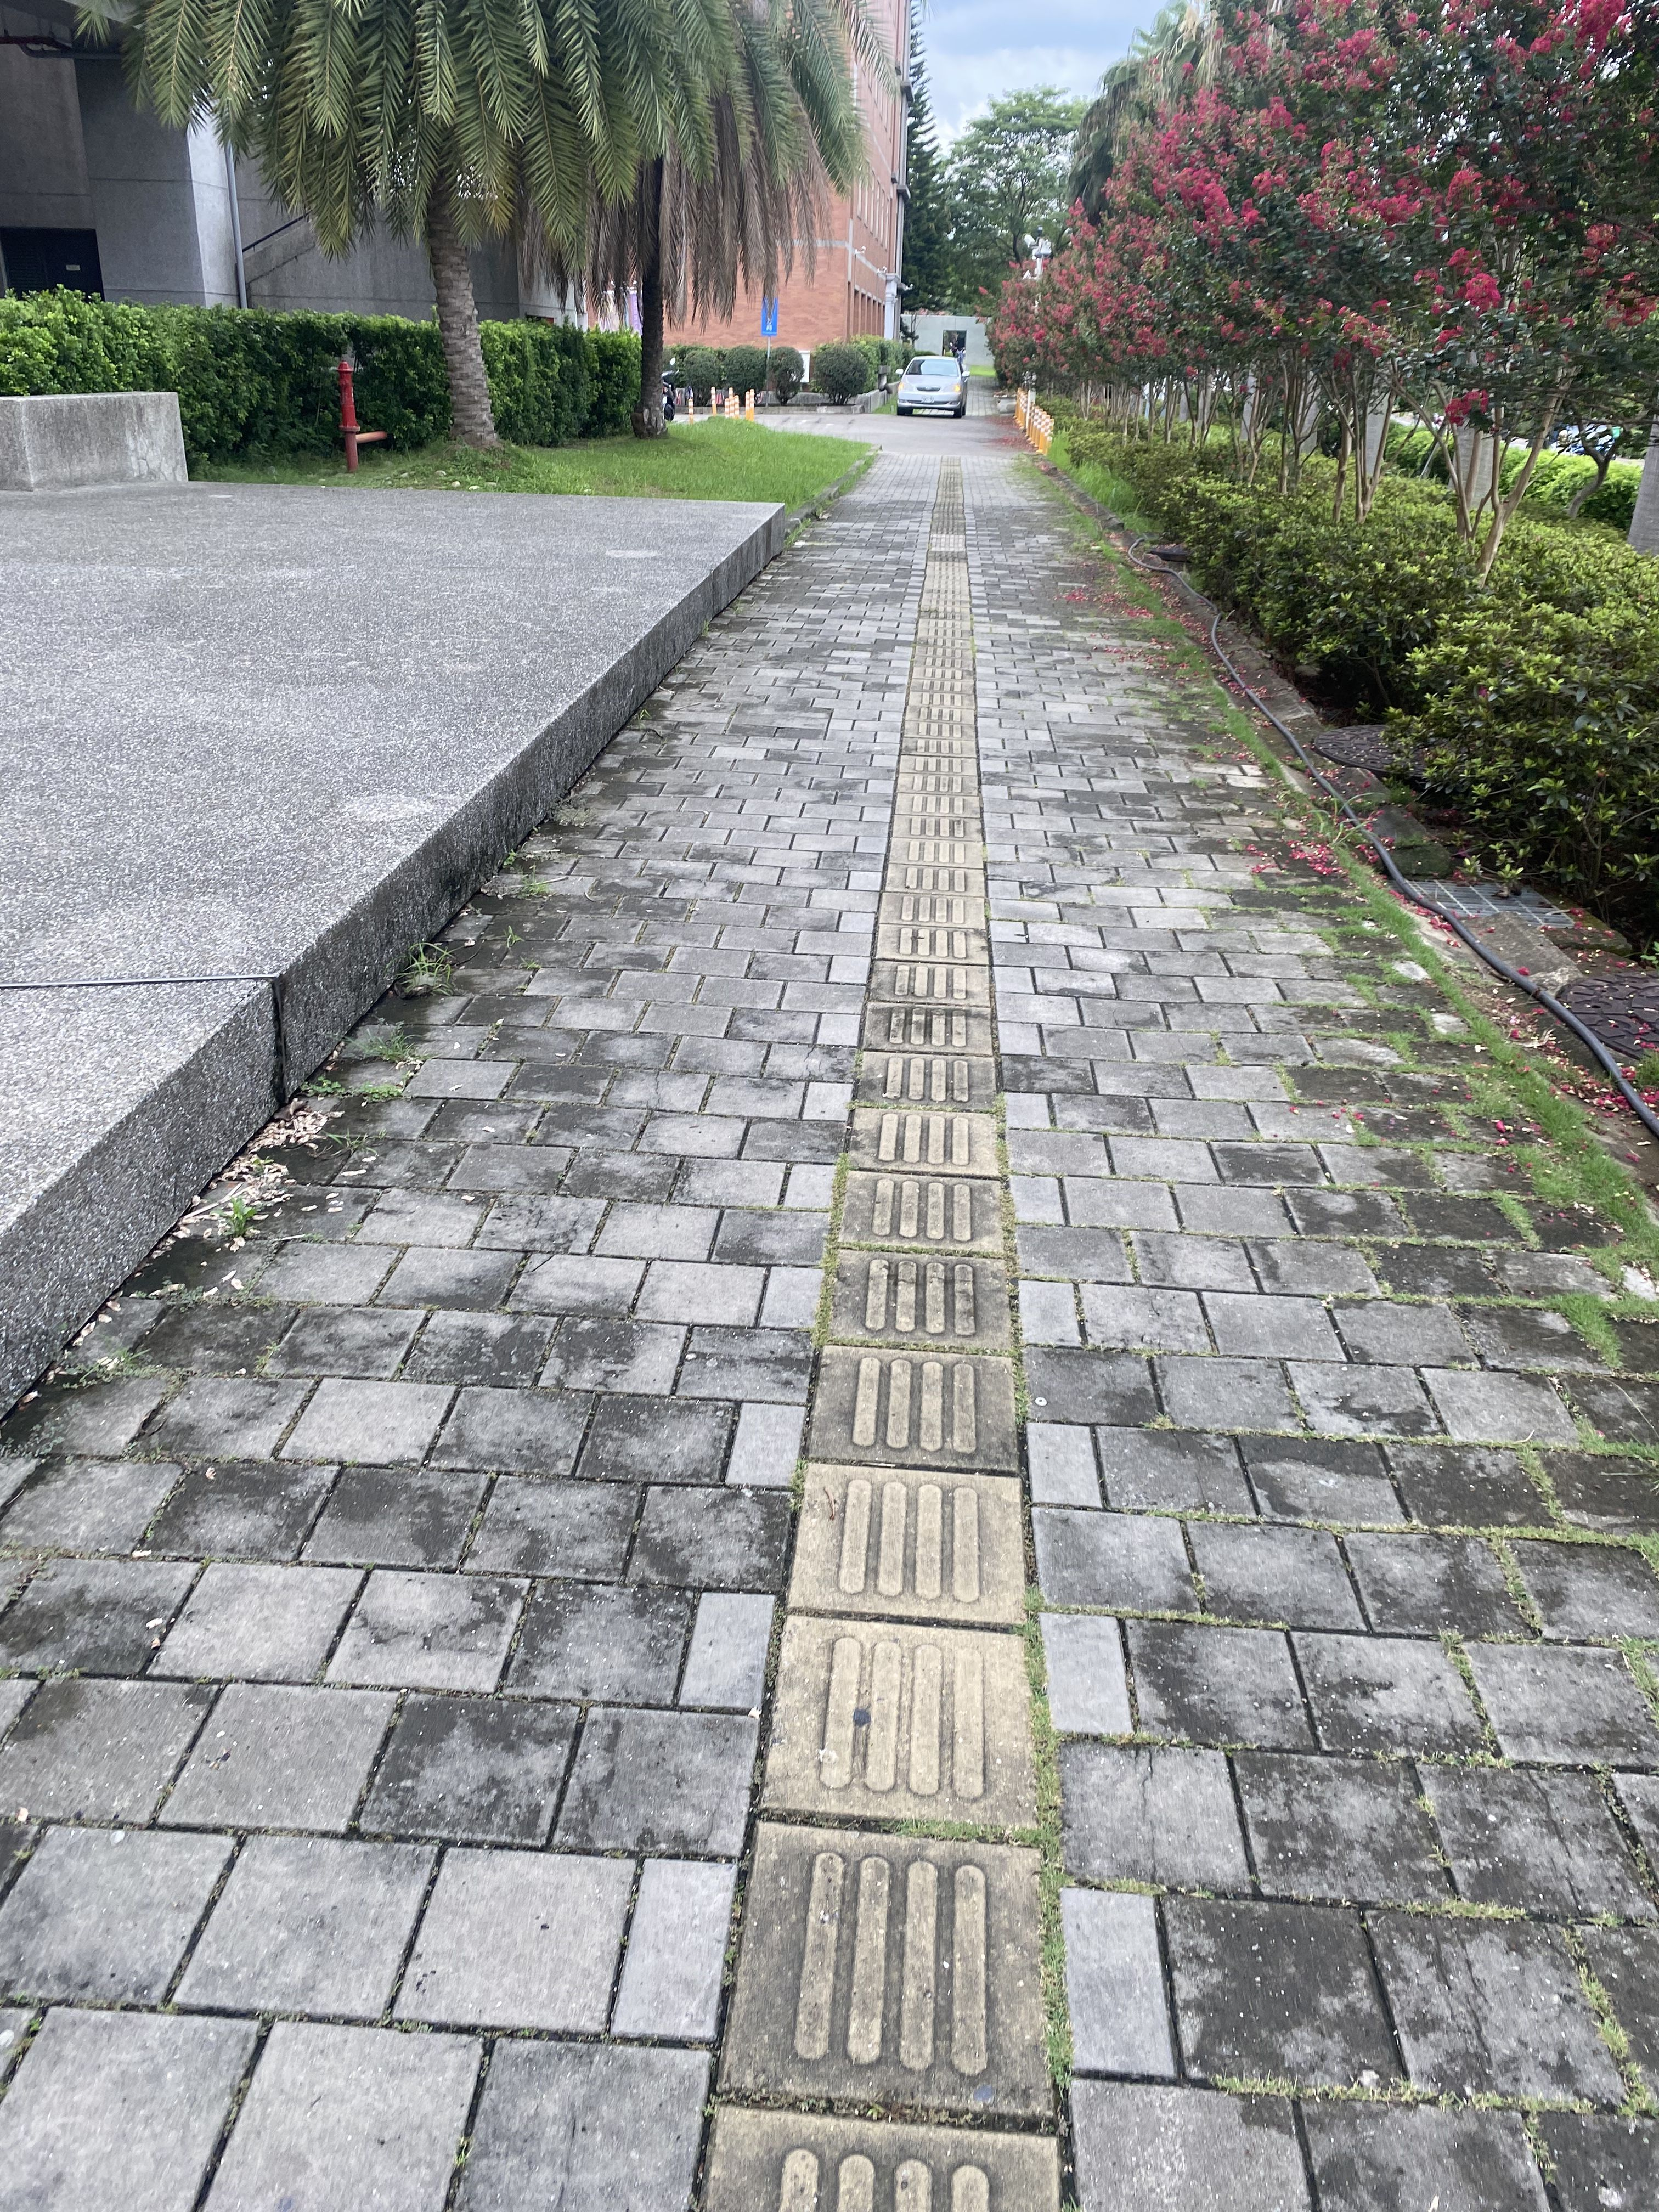0: (7, 610, 1659, 2212)
sidewalk: (659, 428, 1202, 1444)
